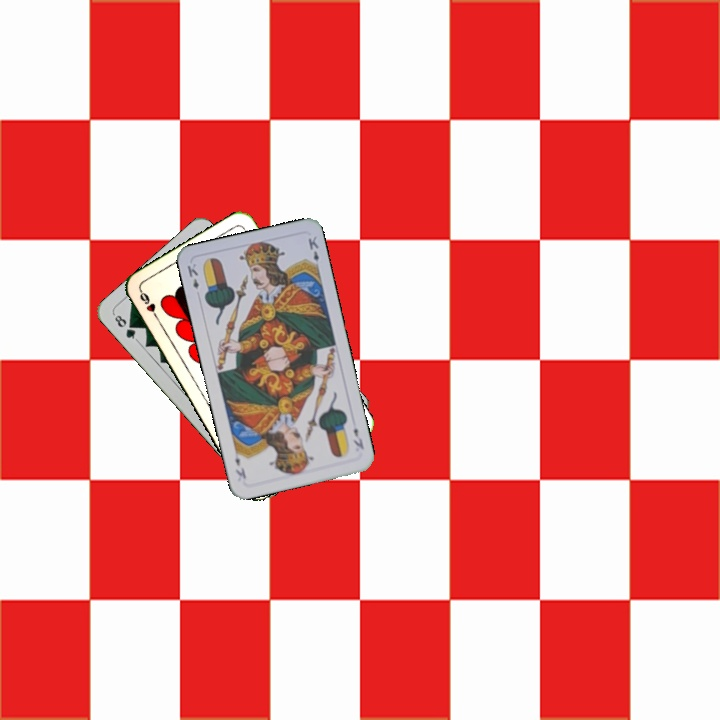EK: (183, 259, 201, 292), (349, 424, 367, 452)
G8: (110, 310, 140, 344)
H9: (135, 286, 162, 323)
